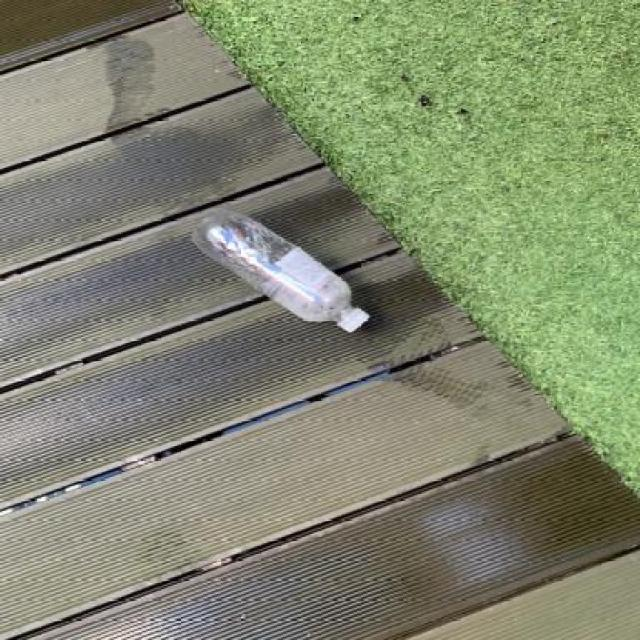trash: (189, 208, 371, 337)
